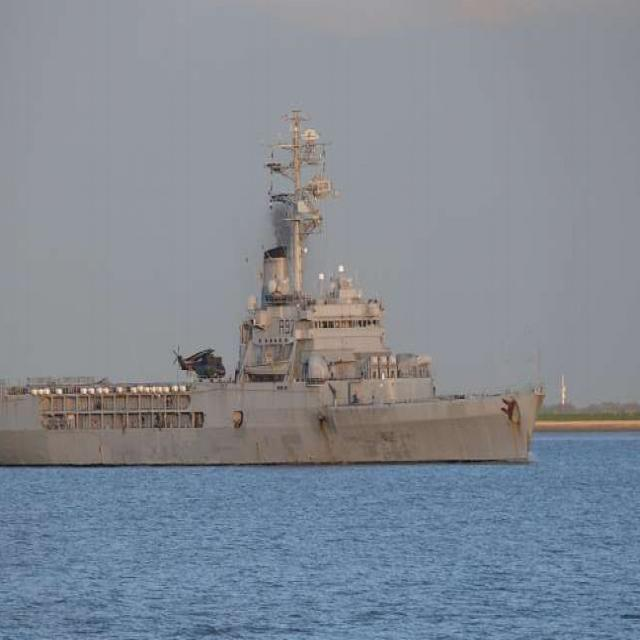Portanaves: (1, 108, 548, 467)
